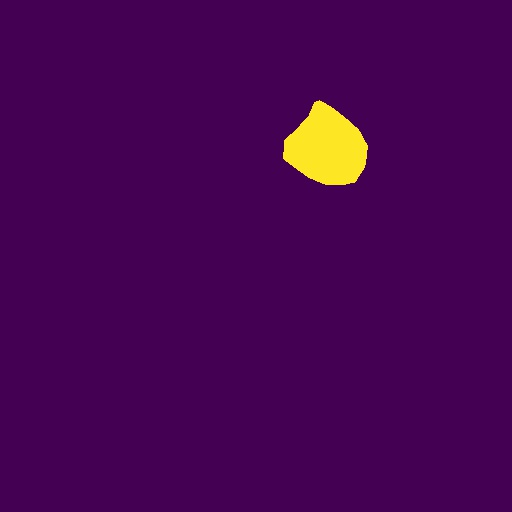Gliomia_tumour: (283, 100, 368, 185)
